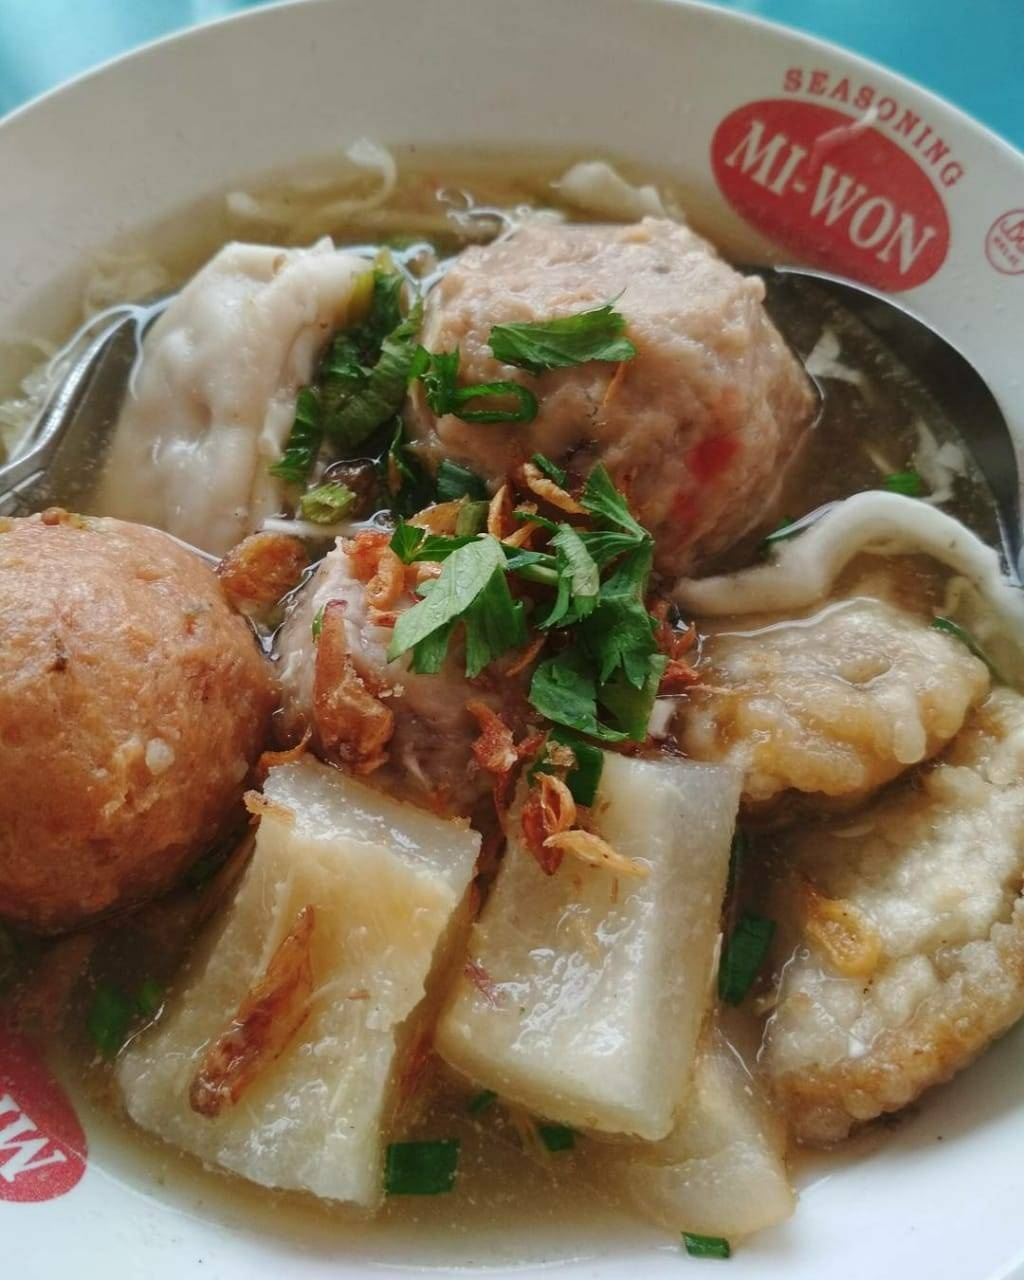bakso_malang: (5, 217, 1024, 1249)
